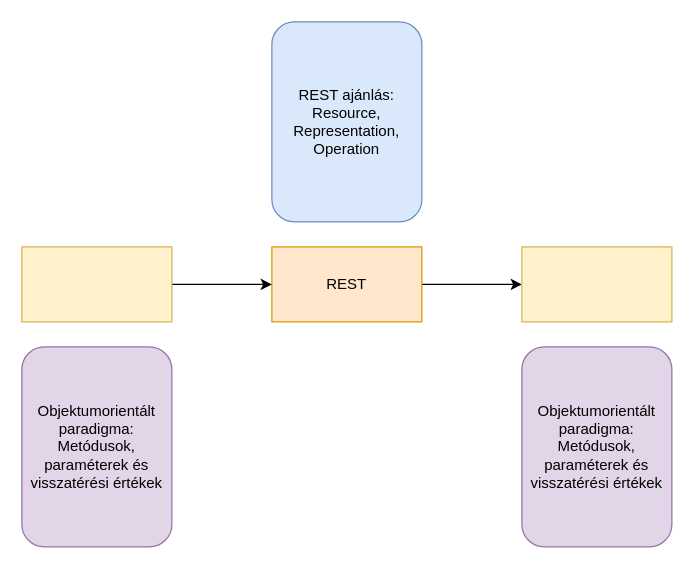
Image size: 694x569. Some labels were removed from this diagram. The shapes that lost their labels are listed below. From the top down, each one's box as (x1, y1, x2, y2) in pixels, then its label:
(21, 246, 172, 322): A rendszer
(521, 246, 672, 322): B rendszer
